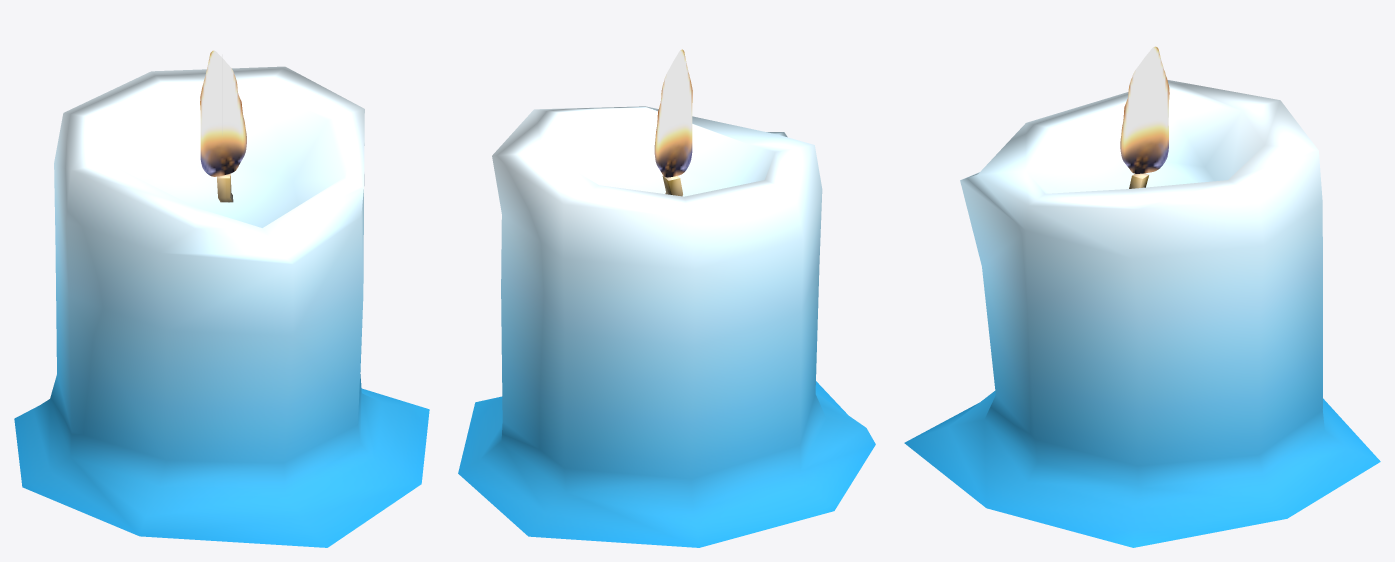
File: CandleShapeC.013.glb
3 views of the same model, side by side, from view 1: azimuth 30°, elevation 25°; view 2: azimuth 150°, elevation 25°; view 3: azimuth 270°, elevation 25° (orthographic).
Parts seen in each view (by area): view 1: CandleShapeC.013; view 2: CandleShapeC.013; view 3: CandleShapeC.013.
Boxes of the visible parts, x1=… form: CandleShapeC.013: x1=14, y1=50, x2=429, y2=547; CandleShapeC.013: x1=458, y1=49, x2=875, y2=547; CandleShapeC.013: x1=904, y1=46, x2=1380, y2=547.
Bounding box in the file's own units: 0.1734 × 0.1799 × 0.1889.
Materials: 2 (2 with a texture image).
